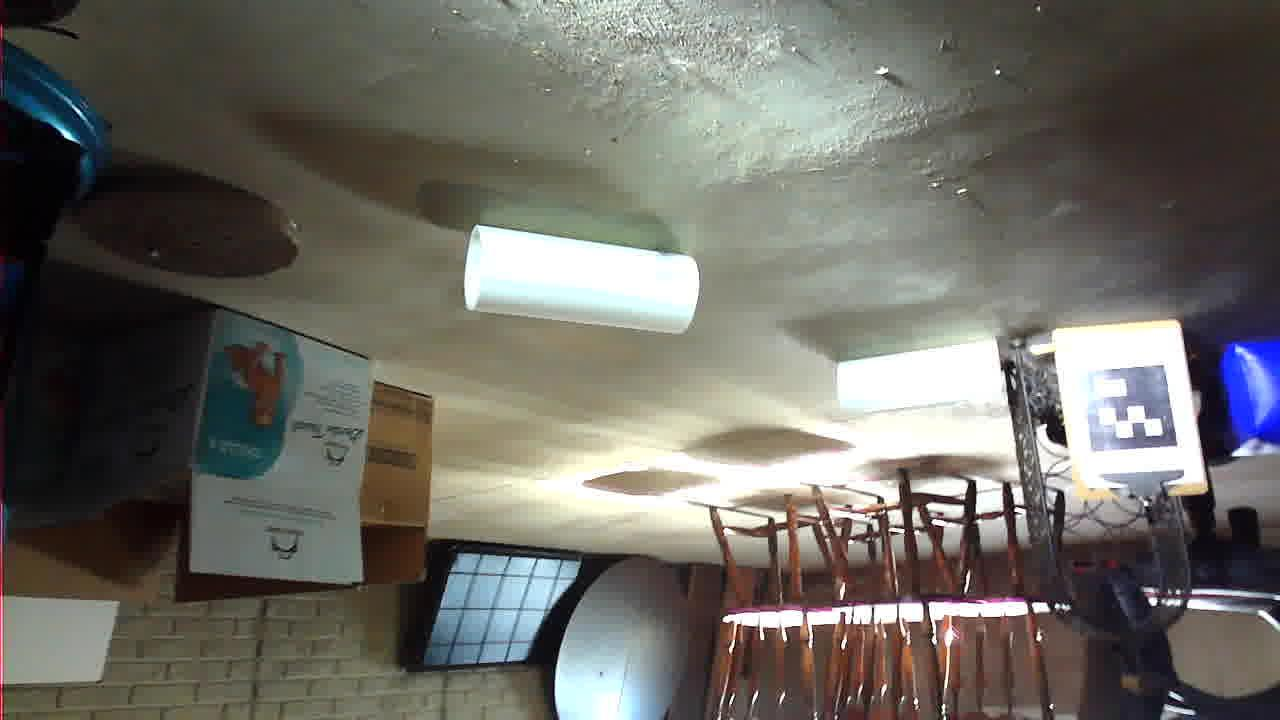coral: (581, 385, 817, 496)
